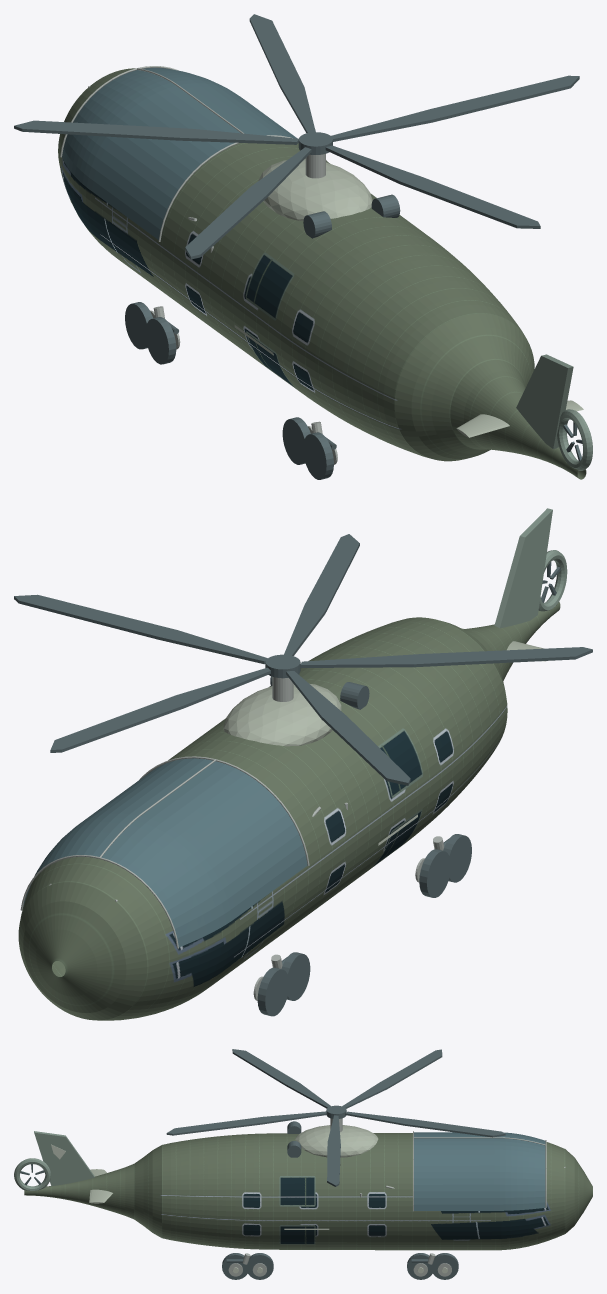
The model's file is 09_utility_transport.glb.
3 views of the same model, one above another, from view 1: azimuth 30°, elevation 25°; view 2: azimuth 150°, elevation 25°; view 3: azimuth 270°, elevation 25° (orthographic). The views are drawn at different scales.
Visible parts, largest first — view 1: textured_airframe, glass-details, rotor_main, dark-details, body-details, accent-details, metal-details; view 2: textured_airframe, glass-details, rotor_main, dark-details, body-details, accent-details, metal-details; view 3: textured_airframe, glass-details, rotor_main, accent-details, dark-details, body-details, metal-details, trim-details.
Part boxes in pixels (x1,y1,x2,y2): textured_airframe: (58, 68, 586, 479); glass-details: (62, 67, 297, 239); rotor_main: (14, 14, 579, 259); dark-details: (125, 194, 400, 479); body-details: (258, 159, 583, 437); accent-details: (516, 354, 592, 470); metal-details: (60, 66, 337, 464); textured_airframe: (18, 602, 560, 1020); glass-details: (23, 758, 307, 947); rotor_main: (14, 534, 592, 785); dark-details: (257, 674, 471, 1016); body-details: (223, 628, 545, 746); accent-details: (494, 508, 567, 628); metal-details: (20, 676, 444, 1000); textured_airframe: (24, 1133, 592, 1250); glass-details: (414, 1132, 545, 1210); rotor_main: (166, 1049, 505, 1186); accent-details: (14, 1131, 94, 1190); dark-details: (222, 1121, 458, 1279); body-details: (89, 1125, 378, 1203); metal-details: (228, 1118, 565, 1276); trim-details: (51, 1144, 447, 1273).
Size of the model in its own units: 12.86 by 6.58 by 23.07.
Materials: 8 (1 with a texture image).
